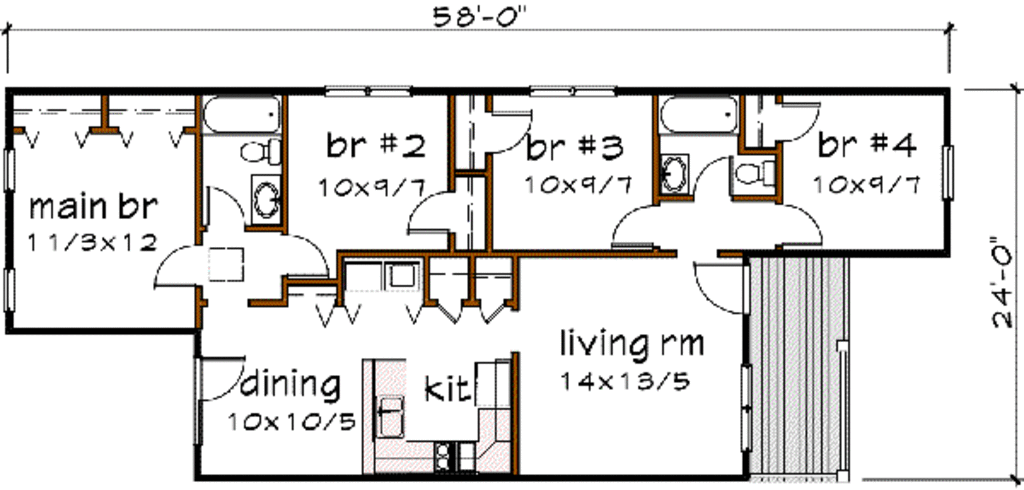door: (680, 251, 748, 316), (395, 187, 457, 239), (477, 109, 542, 154), (772, 202, 831, 249), (606, 201, 662, 250), (146, 246, 210, 288), (280, 231, 335, 277), (690, 157, 741, 205), (189, 355, 245, 397), (774, 100, 823, 147), (194, 181, 244, 226)
large_sink: (230, 137, 294, 173), (735, 150, 778, 195)
small_sink: (244, 174, 285, 224), (660, 151, 693, 196)
tub: (199, 90, 281, 129)
twin_sink: (368, 393, 414, 445)
window: (929, 130, 961, 205), (736, 357, 760, 456), (325, 80, 423, 101), (528, 82, 619, 99), (1, 265, 22, 317), (1, 148, 21, 195)
